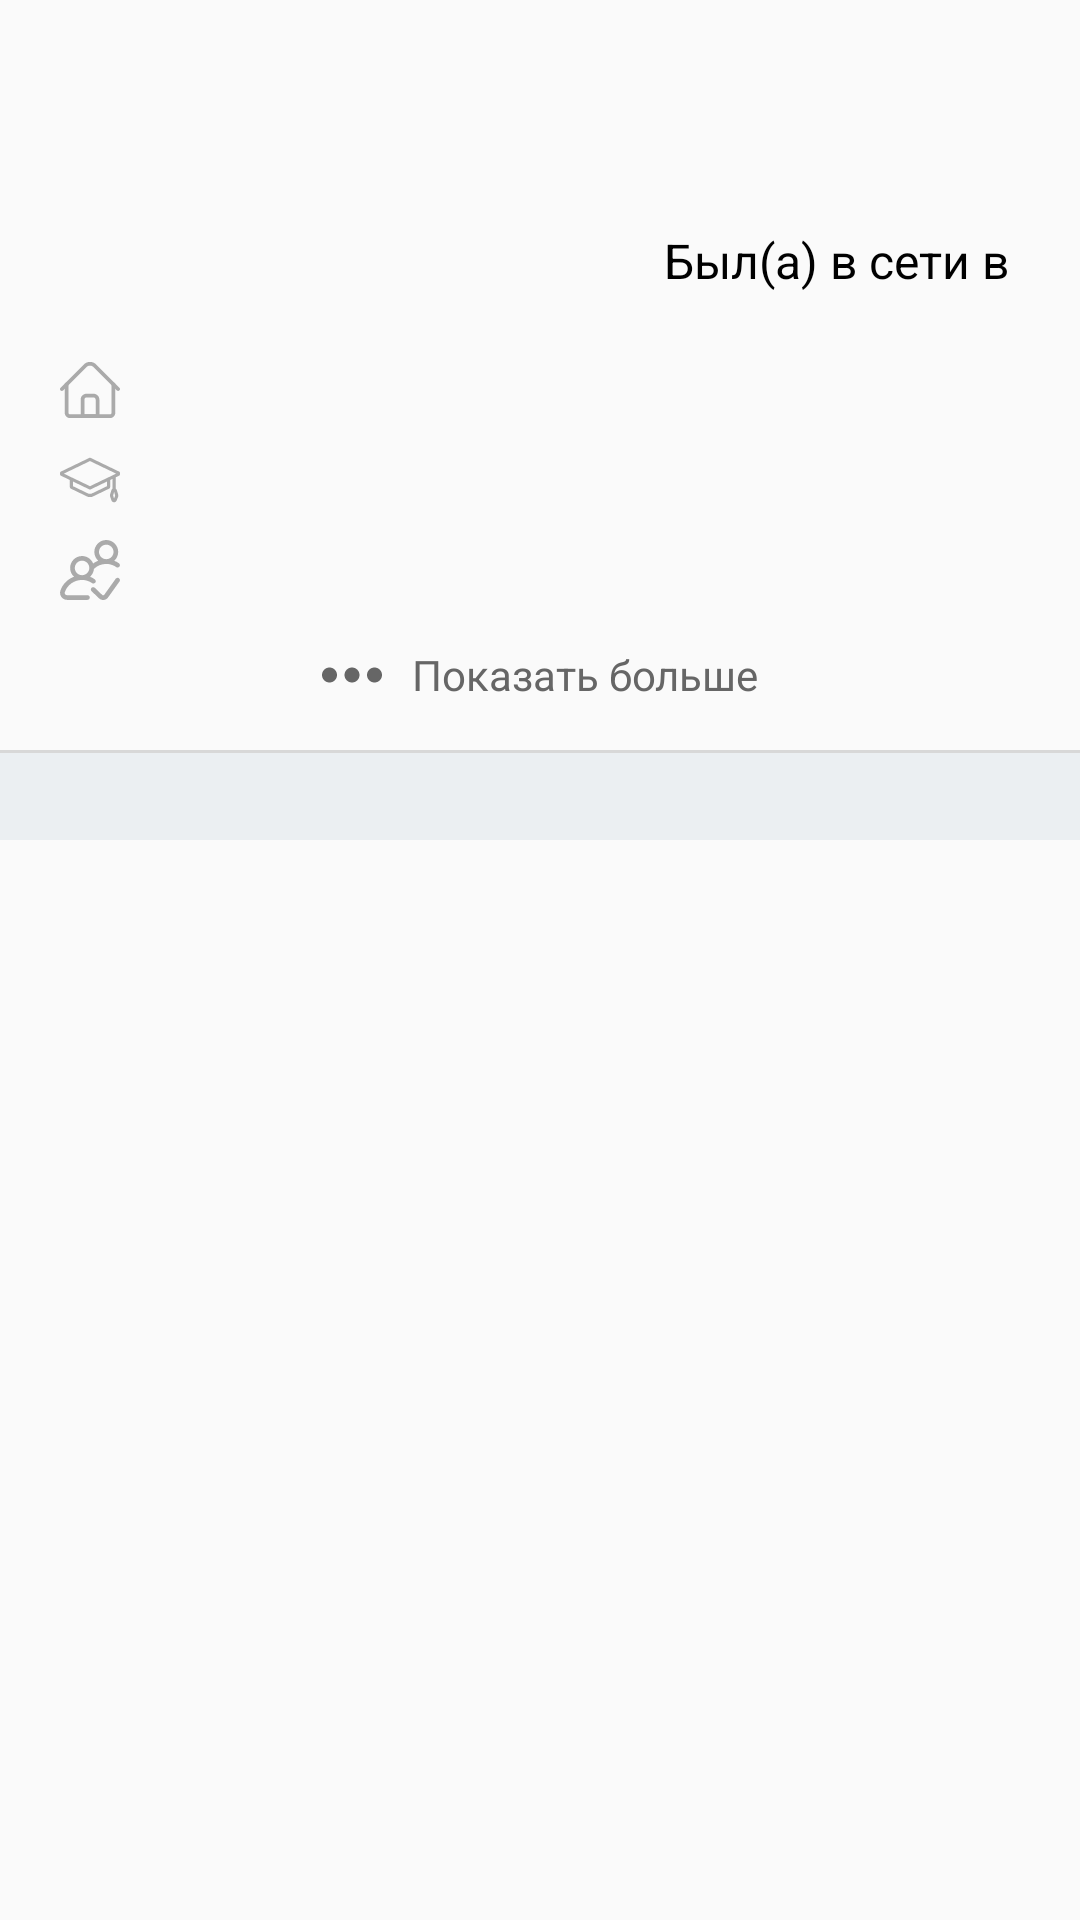

Icons on this 1080w x 1920h Android screen, each with its box as (x1, y1, x2, y2):
city: (60, 362, 120, 418)
education: (60, 458, 120, 502)
followers: (60, 540, 120, 600)
